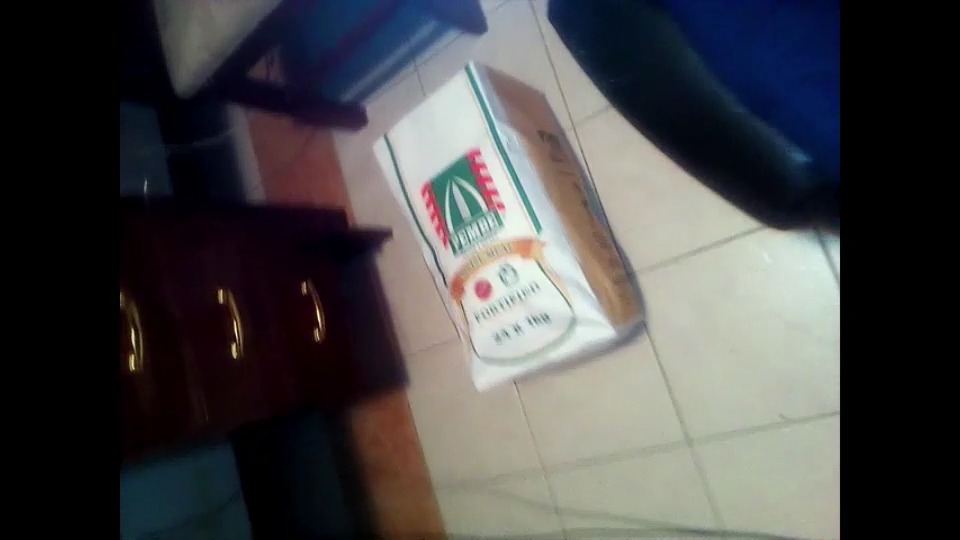maize_flour_green_label: (365, 65, 643, 395)
